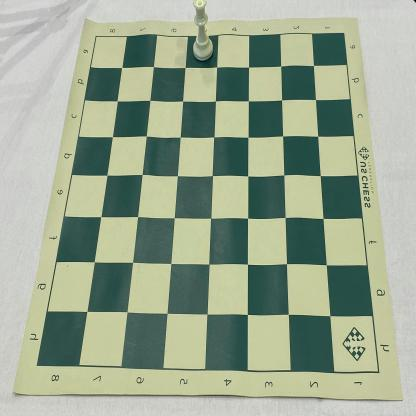white-queen: (193, 0, 214, 62)
